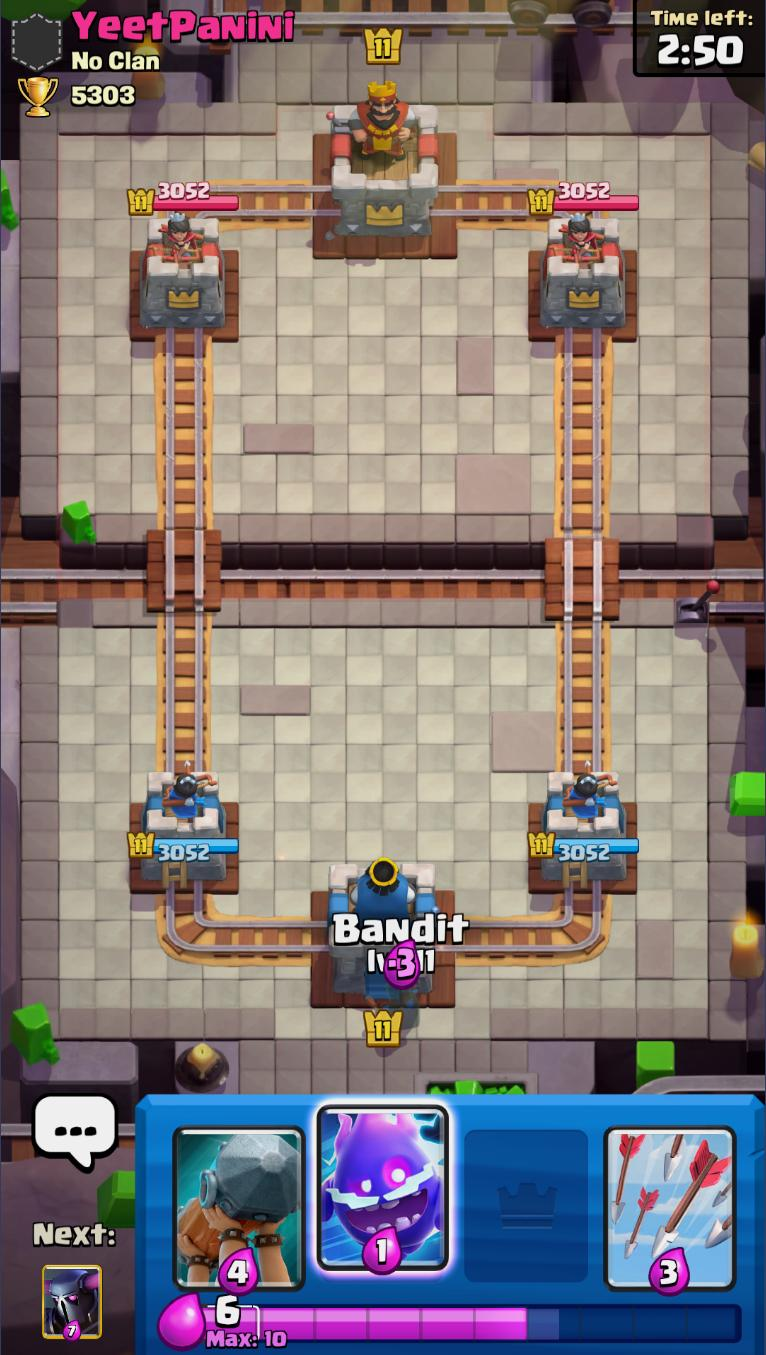ArrowDeck: (600, 1094, 745, 1296)
BattleRamDeck: (167, 1095, 310, 1296)
ElectroSpiritDeck: (311, 1095, 455, 1296)
Elixir: (203, 1295, 744, 1350)
Empty: (456, 1094, 598, 1295)
EnemyTower: (533, 208, 631, 331), (136, 214, 227, 331)
KingTower: (326, 78, 443, 243)
MyKingTower: (326, 858, 440, 1000)
MyPrincessTower: (126, 768, 240, 886), (528, 770, 640, 886)
MyPrincessTowerHP: (126, 830, 239, 862), (527, 832, 640, 862)
PekkaNext: (41, 1264, 103, 1343)
PrincessTower: (150, 214, 205, 270), (552, 213, 607, 267)
TowerPrincessHP: (527, 182, 640, 216), (127, 182, 240, 216)
